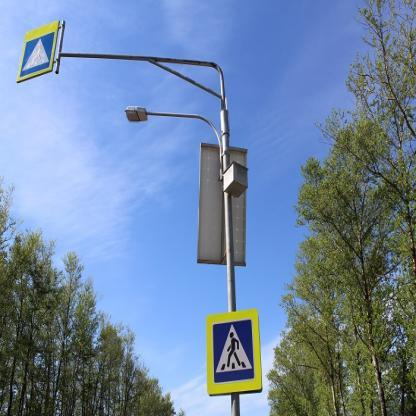obstructed_road_sign: (17, 22, 59, 83)
road_sign: (207, 311, 260, 394)
